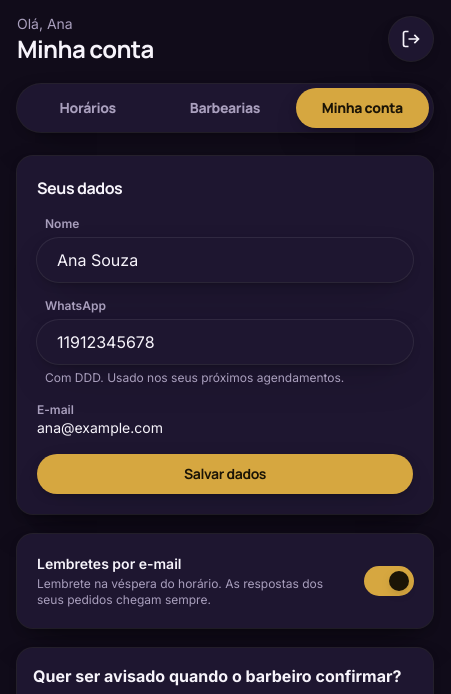
Test: client area 2.0 › saves name and WhatsApp in "Minha conta"
Replace the text in the field labelled "Nome" with "Ana Lima": (225, 260) [37,238,413,282]
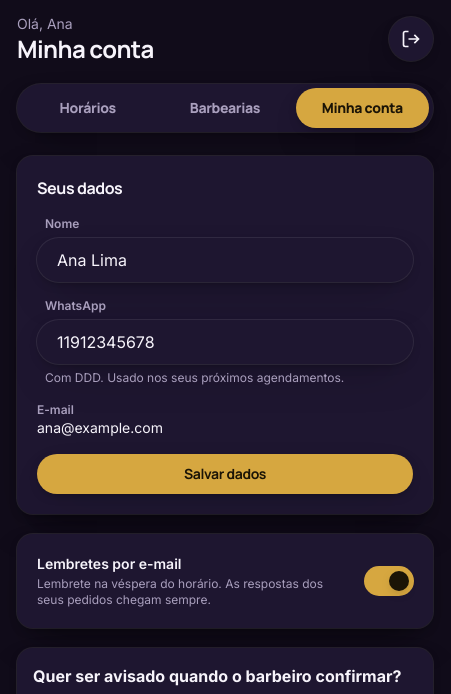
Replace the text in the field labelled "WhatsApp" with "(11) 98888-7777": (225, 342) [37,320,413,364]
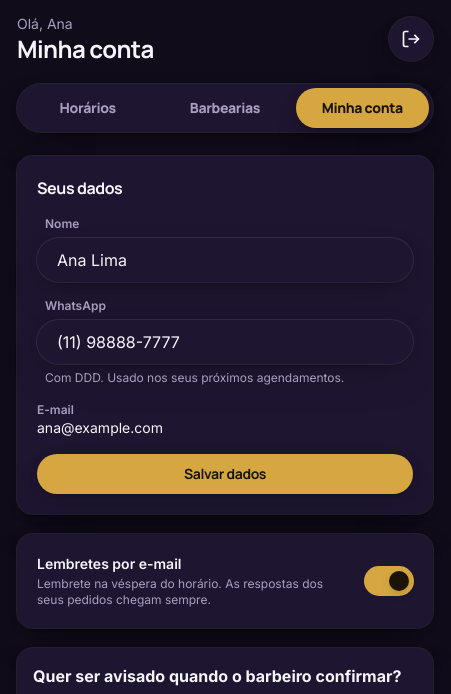
Click the button "Salvar dados": (225, 474) [37,454,413,494]
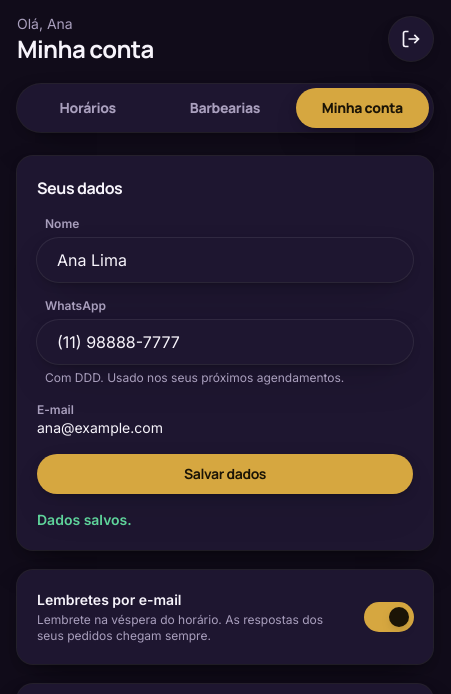
Now the text "Dados salvos." is shown, box [37,511,132,528]
